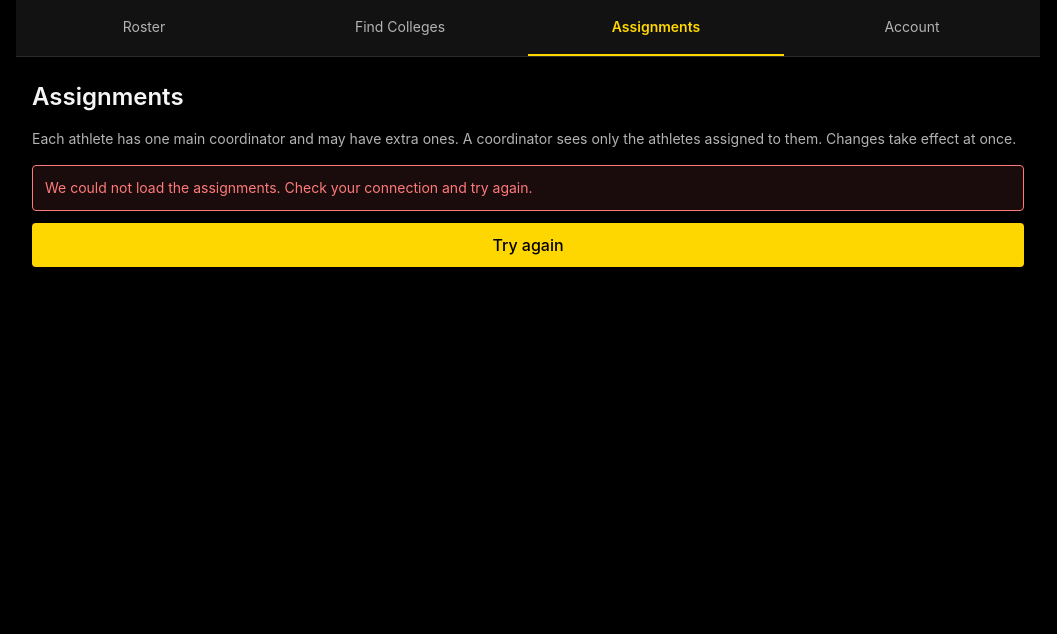
Assignments (administrator) › shows an error with a way to try again
Expected: the text "We could not load the assignments. Check your connection and try again." is shown, [32,165,1024,211]
Click the button "Try again" at (528, 245), box [32,223,1024,267]
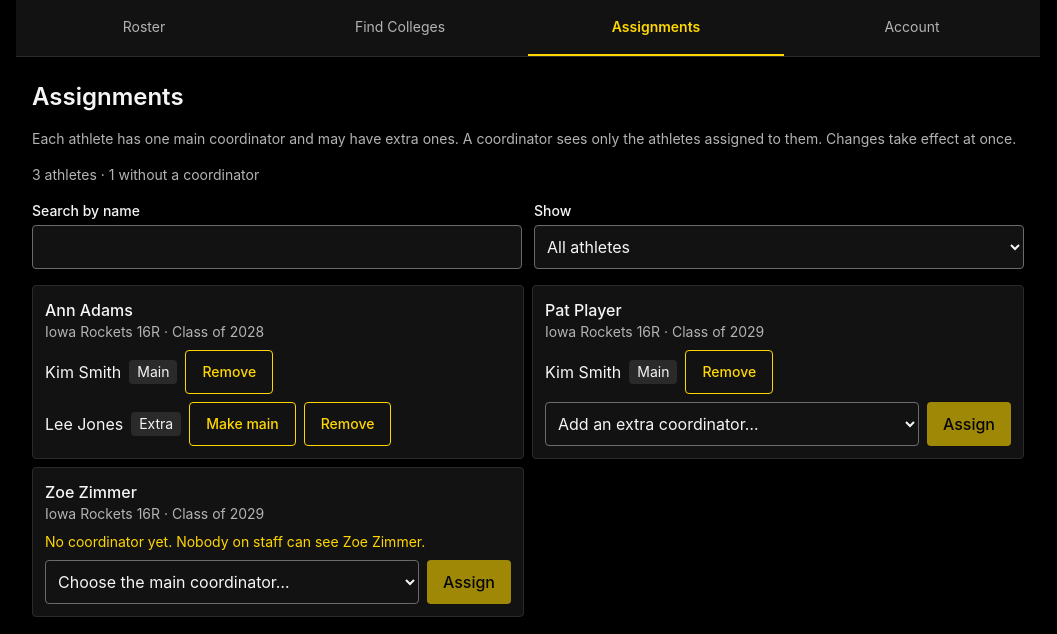
Expected: the list named "Athletes" is shown, [32,285,1024,617]
